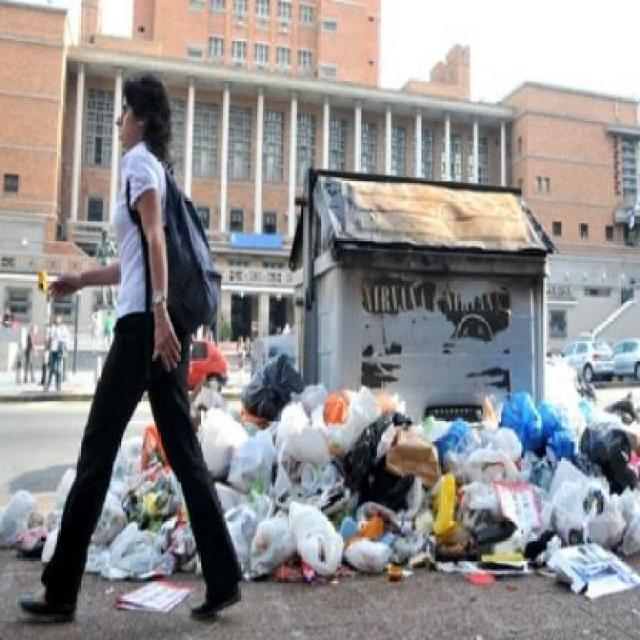garbage: (186, 374, 639, 596), (0, 406, 185, 589)
